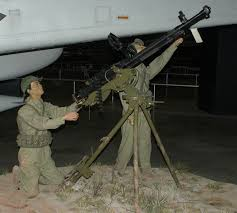gun: (68, 5, 211, 111)
